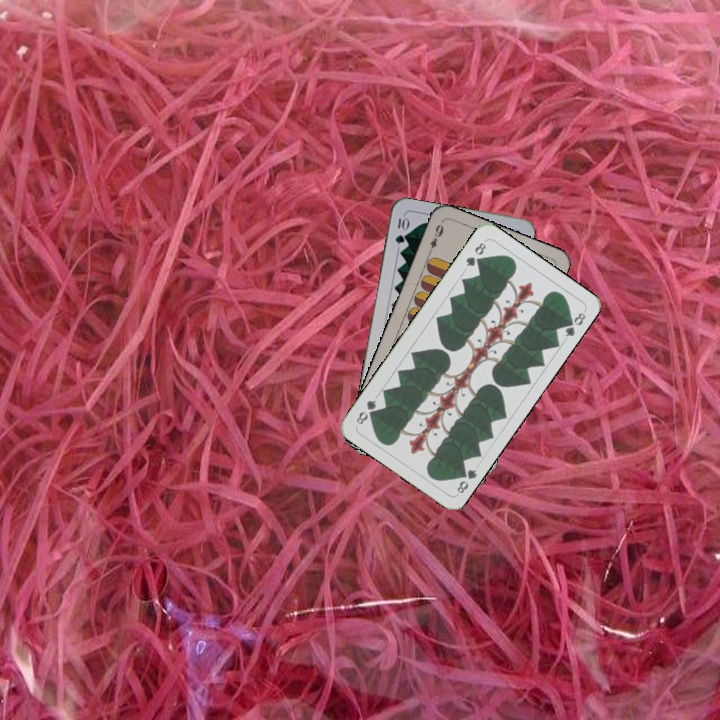E9: (424, 218, 446, 257)
G10: (391, 213, 410, 247)
G8: (453, 464, 480, 496), (462, 238, 489, 269)
